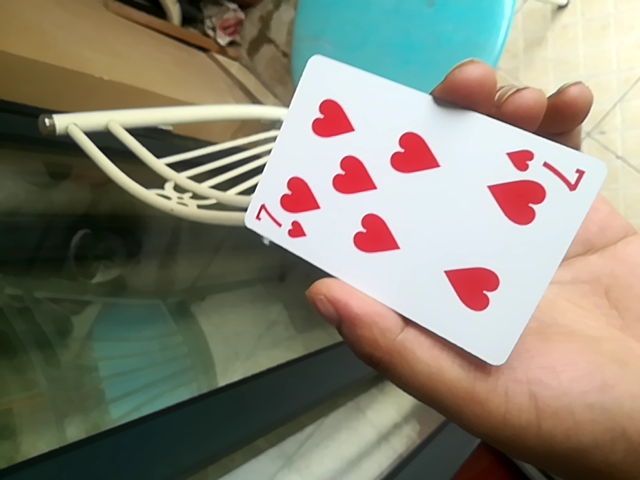hx 7: (247, 53, 611, 367)
